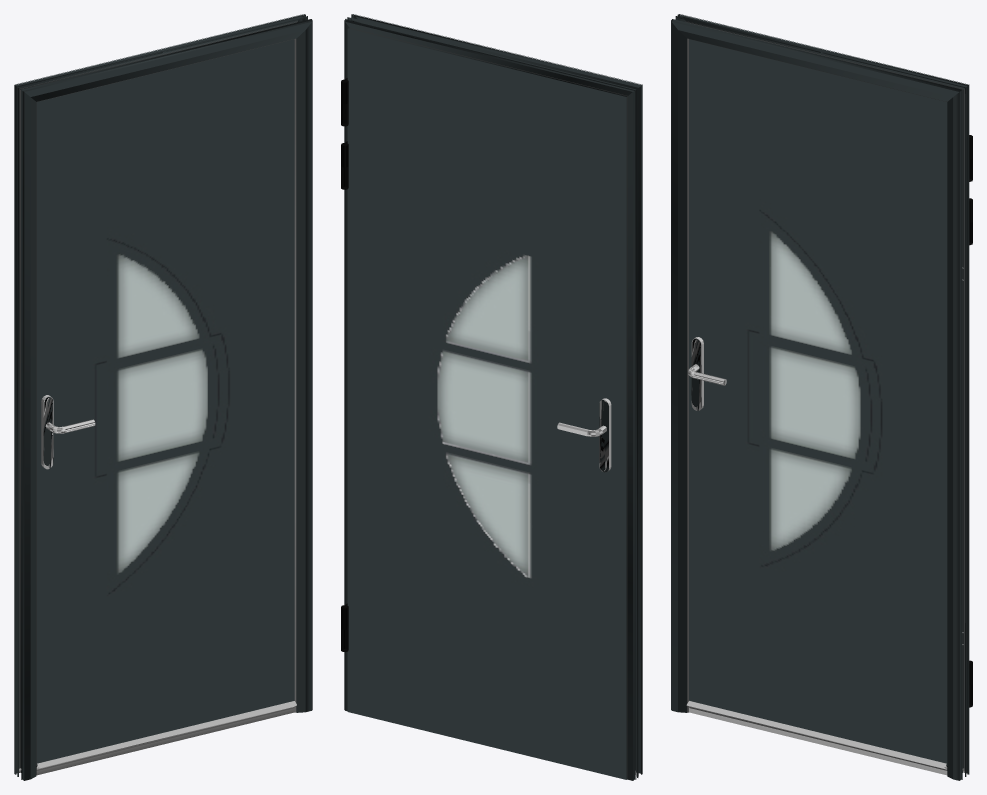
3 renders of one model, left to right at view 1: azimuth 30°, elevation 25°; view 2: azimuth 150°, elevation 25°; view 3: azimuth 330°, elevation 25°, orthographic.
Visible parts, largest first — view 1: ouvrant, 50, puxador; view 2: ouvrant, 50, puxador; view 3: ouvrant, 50, puxador.
Part boxes in pixels (<box>): ouvrant: <box>19,21,297,770</box>; 50: <box>14,14,312,780</box>; puxador: <box>41,395,53,469</box>; ouvrant: <box>341,28,627,779</box>; 50: <box>341,14,642,780</box>; puxador: <box>599,398,611,472</box>; ouvrant: <box>685,21,972,770</box>; 50: <box>671,14,972,780</box>; puxador: <box>691,337,703,410</box>.
Size of the model in its own units: 96 by 218 by 19.09.
Materials: 1 (1 with a texture image).
